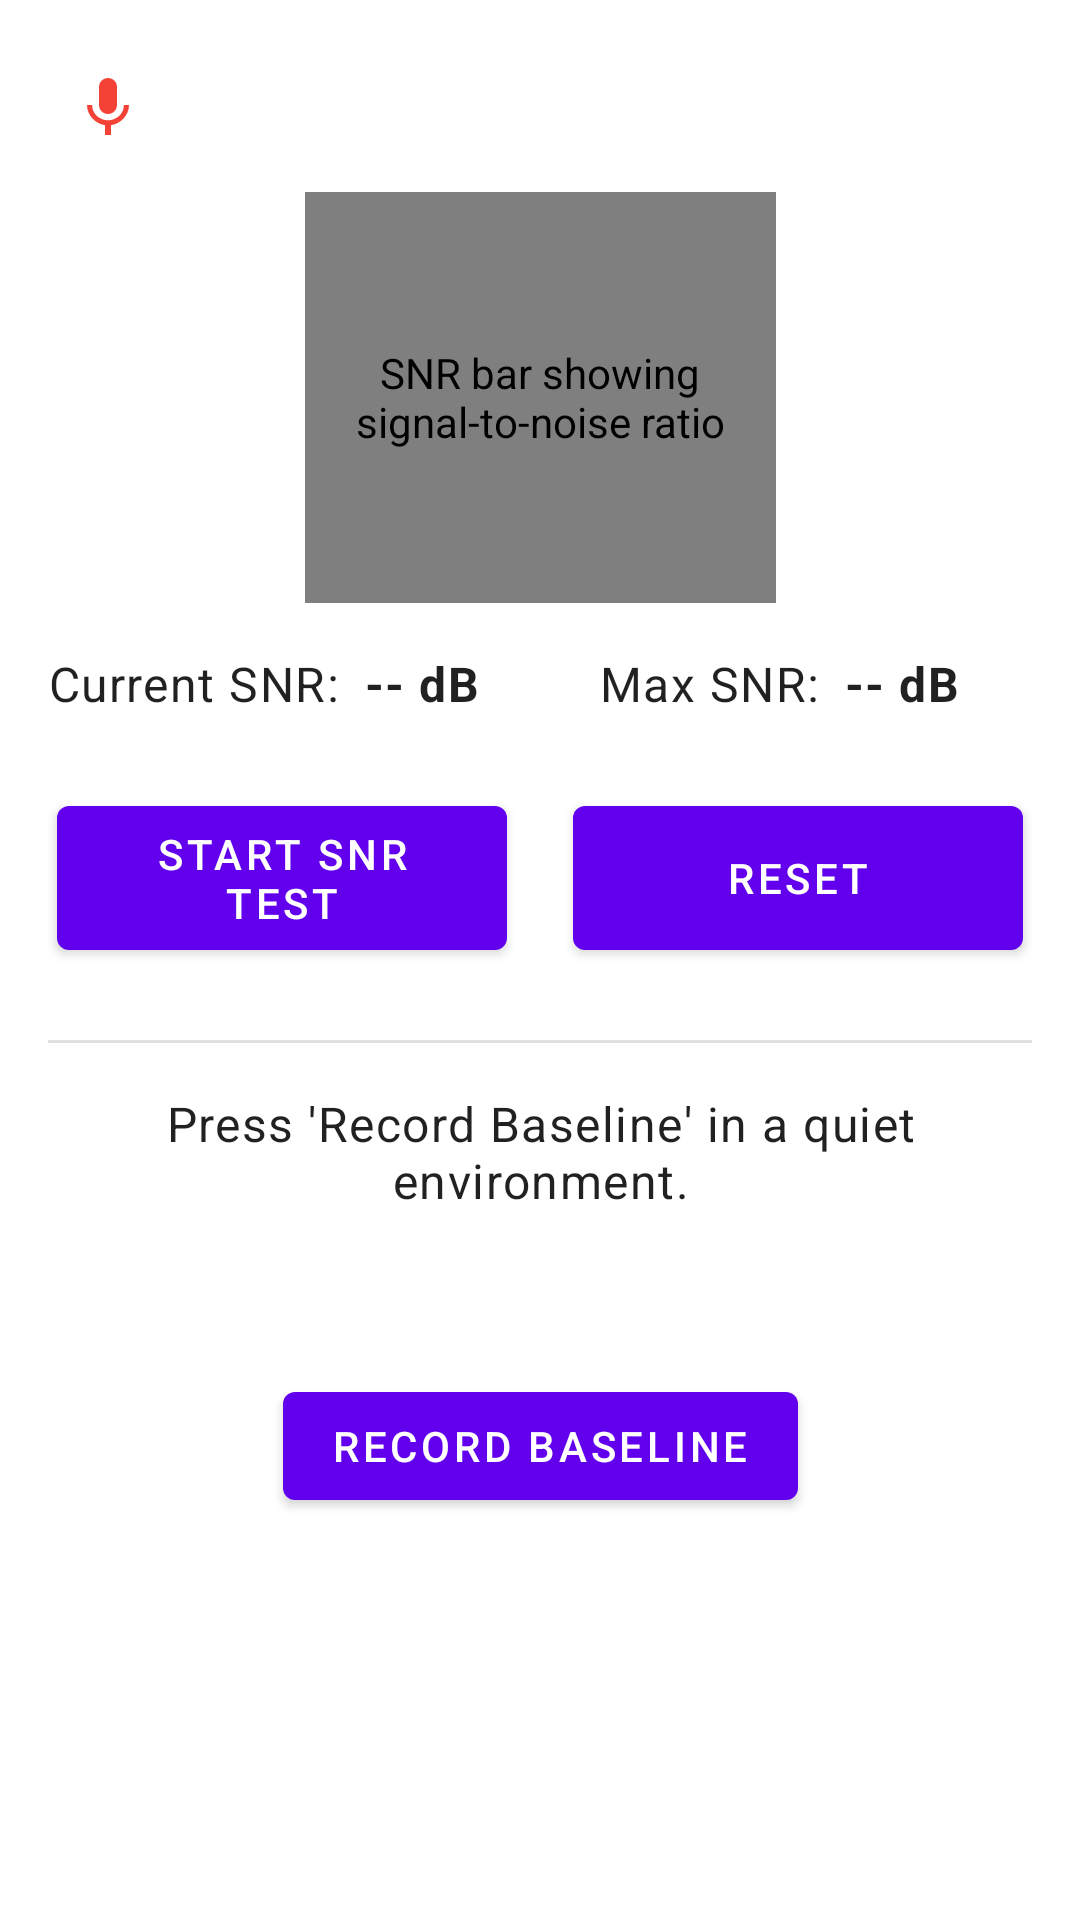

Screen size 1080*1920. Icon name, then its box in pixels as box=[x1, y1, x2, y2]:
Microphone Status: box=[87, 78, 129, 135]
